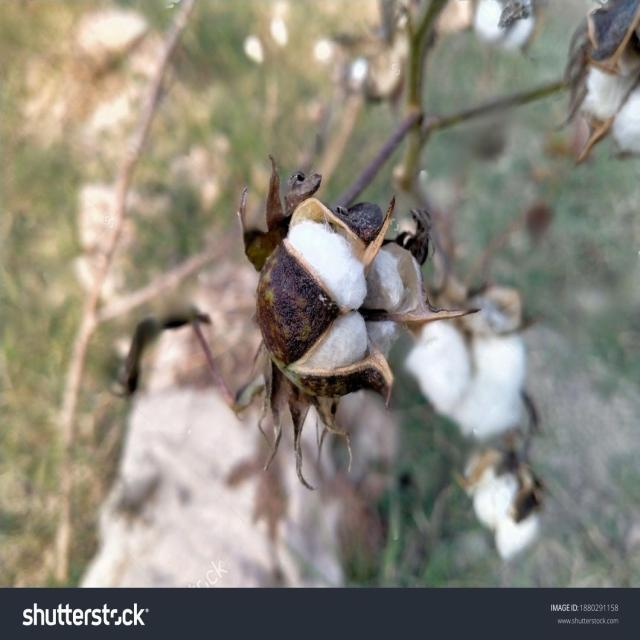Leaf: (209, 136, 497, 508)
